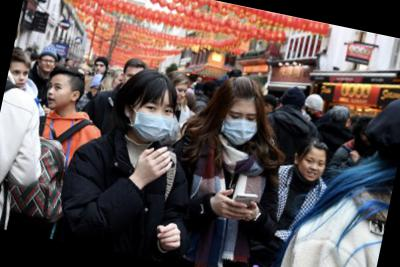with_mask: (131, 95, 180, 146), (219, 106, 261, 150)
without_mask: (44, 78, 74, 113), (297, 152, 329, 184), (8, 66, 31, 89), (39, 55, 58, 74), (173, 85, 189, 104), (93, 62, 108, 76)
